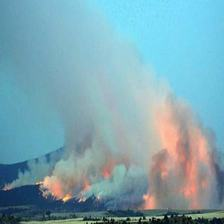fire: (44, 133, 220, 210)
